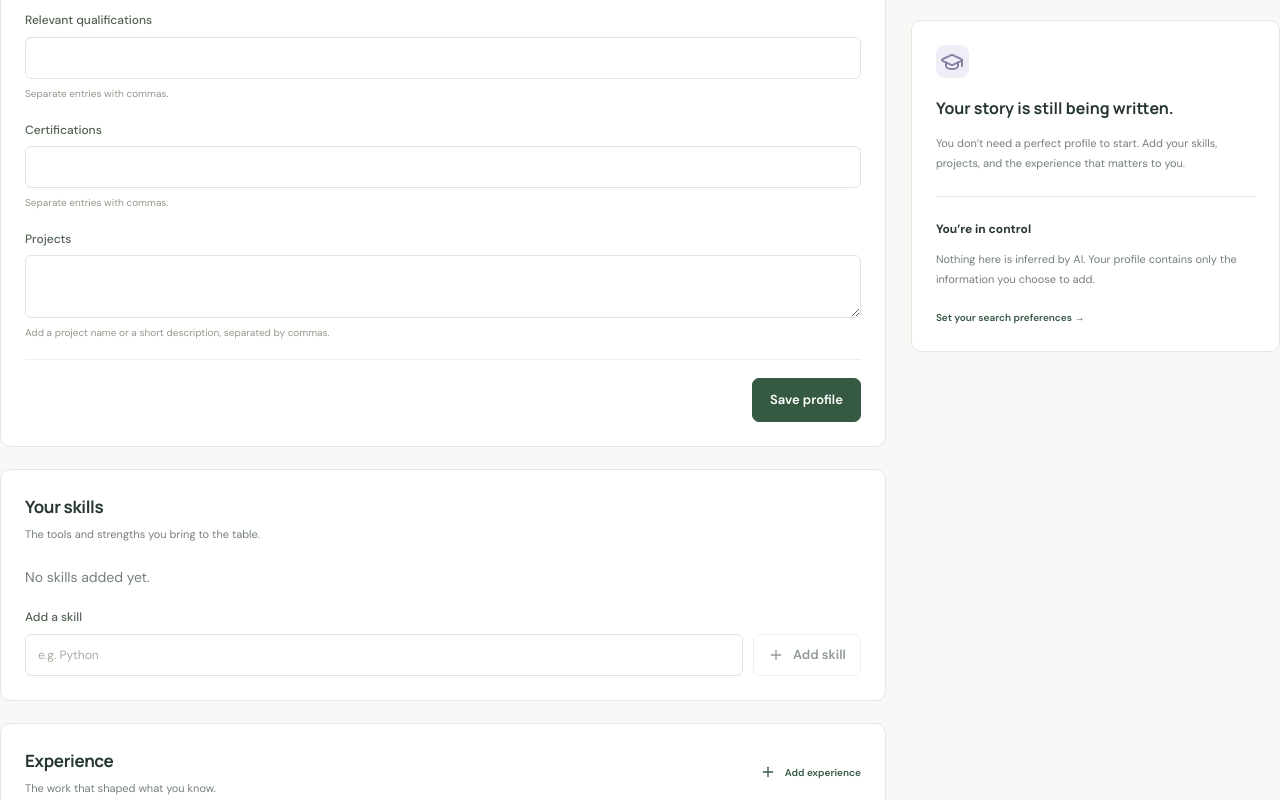
Scenario: workspace UI with explicitly mocked HTTP › retains save failures and never claims success
The width and height of the screenshot is (1280, 800).
(page scrolled)
Click the button "Save profile" at (806, 400), box [752, 378, 861, 422]
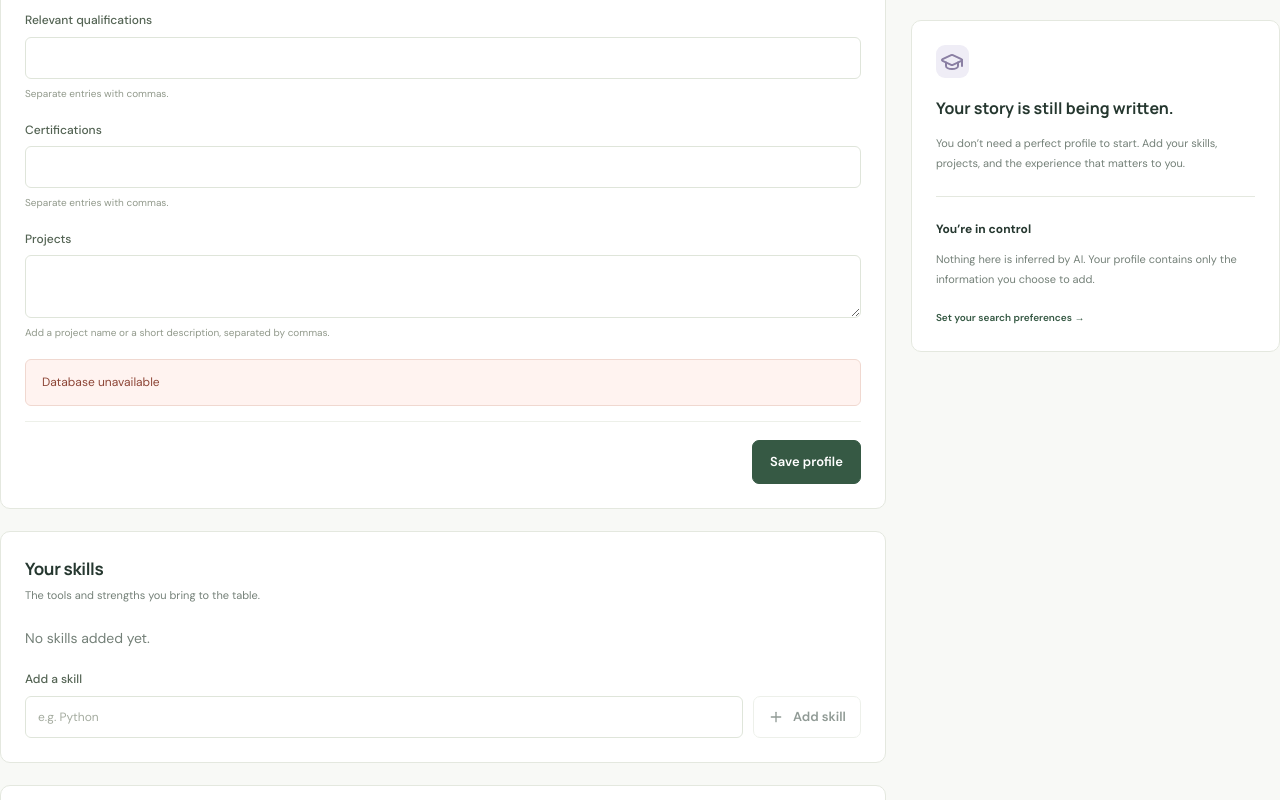
Now the message reads "Database unavailable", box [42, 374, 160, 390]
